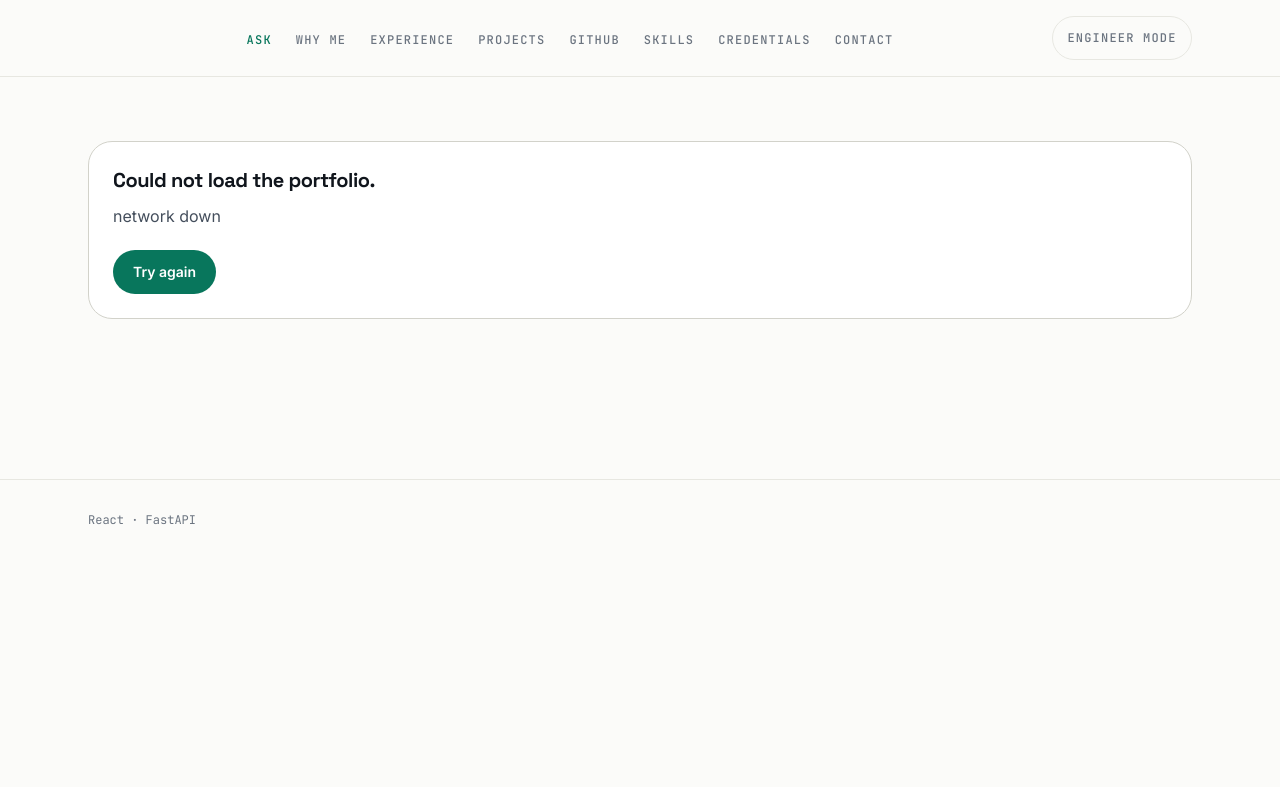
Test: App › shows an actionable error and retries the aggregate request
Expected: the message shows "Could not load", [113,167,375,193]
What coordinates should you click on to do the following:
click the button "Try again"
I would click on:
 (165, 272)
Its box is [113,250,216,294].
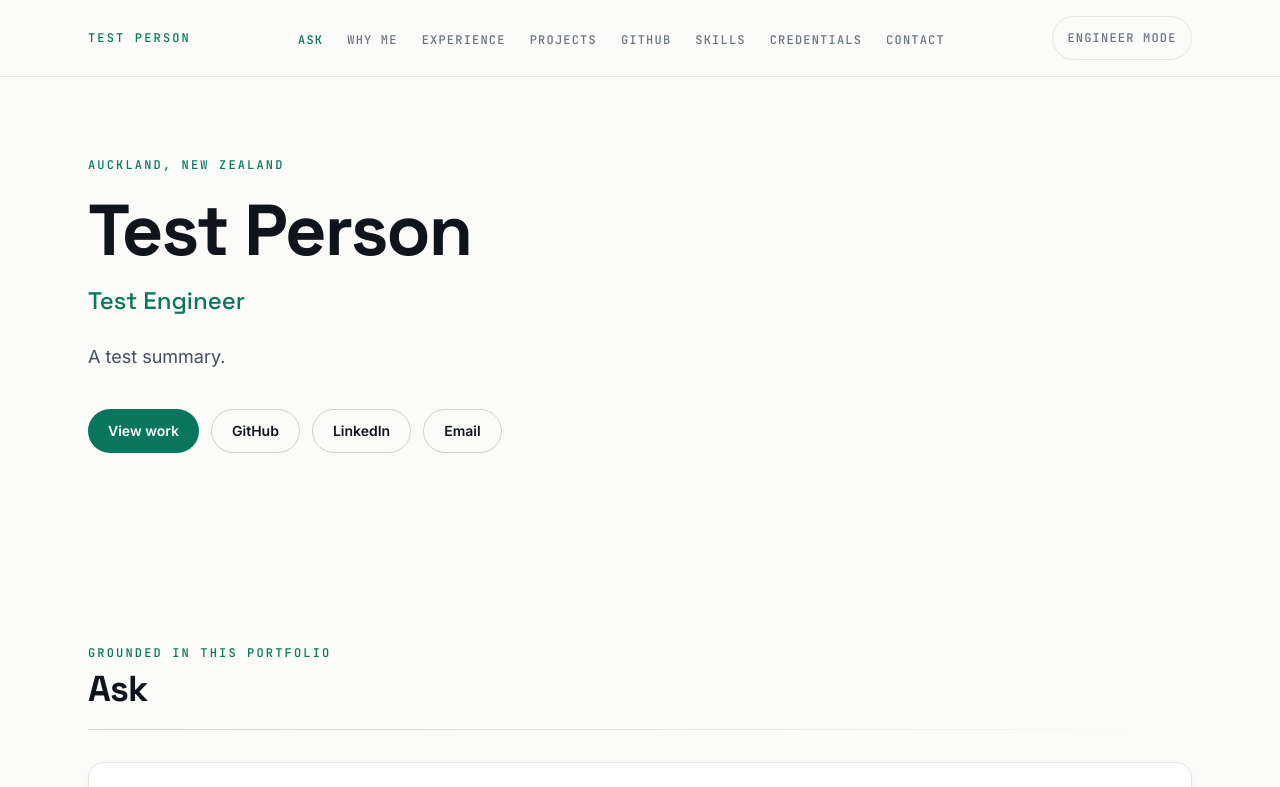
Result: the heading "Test Person" is shown at [88,184,471,276]
